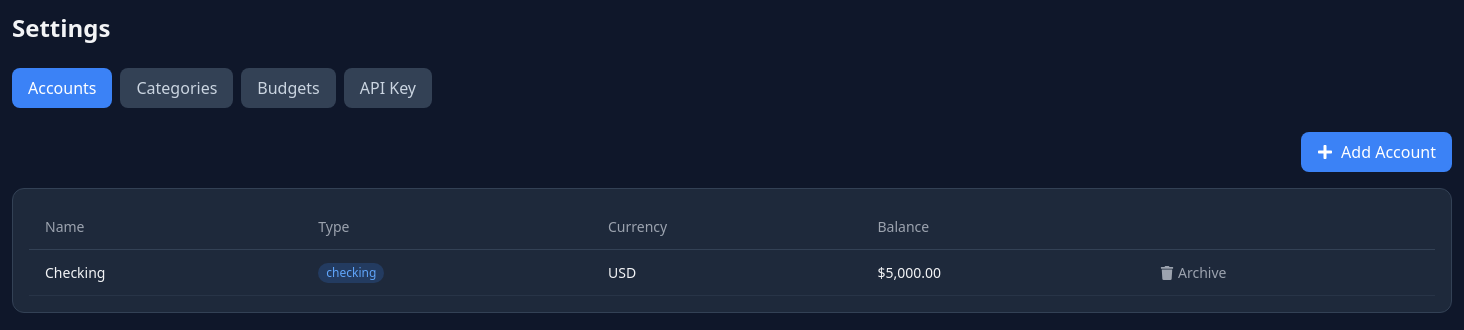
Test: Settings › switches to budgets tab
The width and height of the screenshot is (1464, 330).
Click the button "budgets": (288, 88) [241,68,336,108]
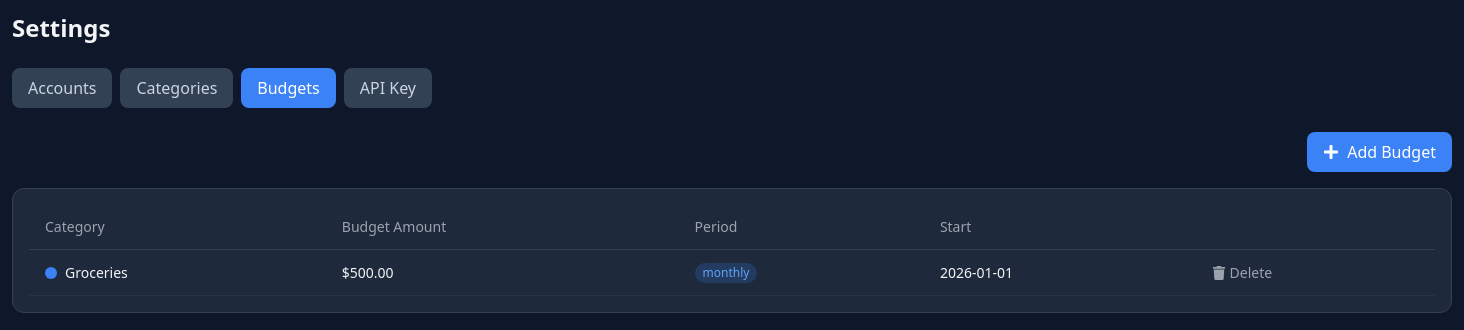
Check: the button "Add Budget" is shown, box [1307,132,1452,172]
